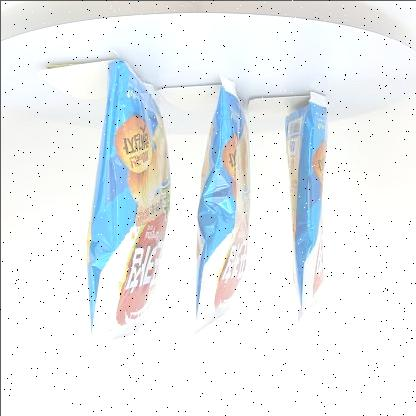Others: (78, 47, 348, 363)
